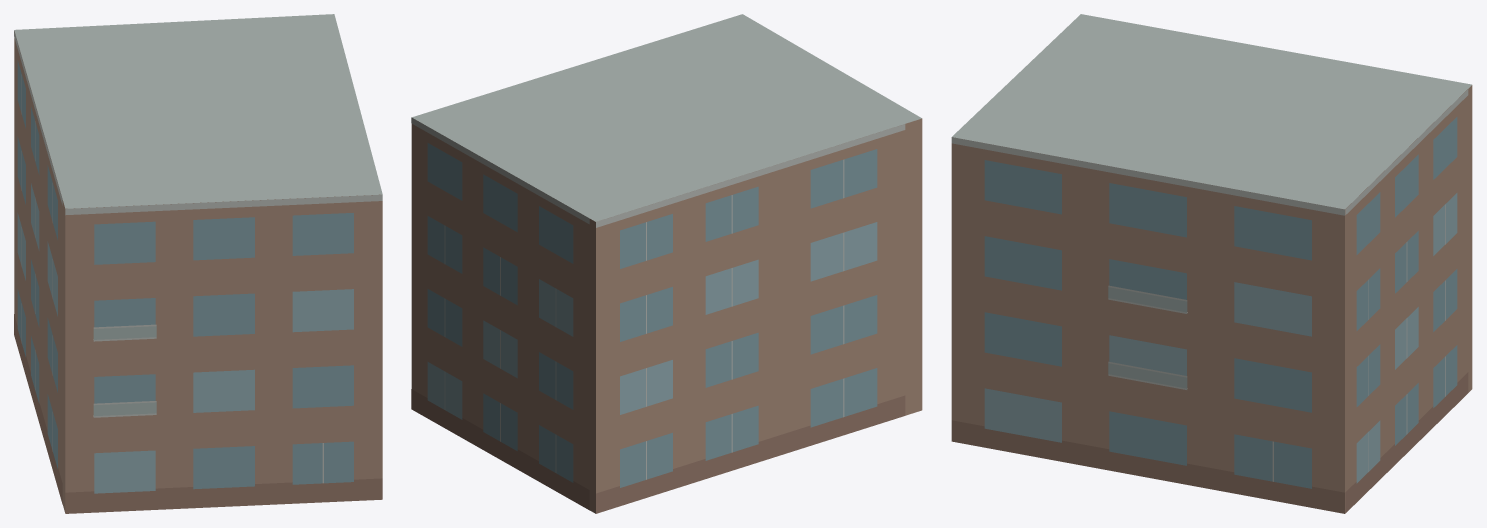
File: survey-upis-32834743.glb
3 views of the same model, side by side, from view 1: azimuth 30°, elevation 25°; view 2: azimuth 150°, elevation 25°; view 3: azimuth 270°, elevation 25° (orthographic). The views are drawn at different scales.
Visible parts, largest first — view 1: survey-upis-32834743.tmp; view 2: survey-upis-32834743.tmp; view 3: survey-upis-32834743.tmp.
Boxes of the visible parts, x1,y1,x2,y2 form: survey-upis-32834743.tmp: [14, 14, 382, 513]; survey-upis-32834743.tmp: [411, 14, 922, 513]; survey-upis-32834743.tmp: [951, 14, 1472, 513].
Bounding box in the file's own units: 16.12 × 11.7 × 18.15.
